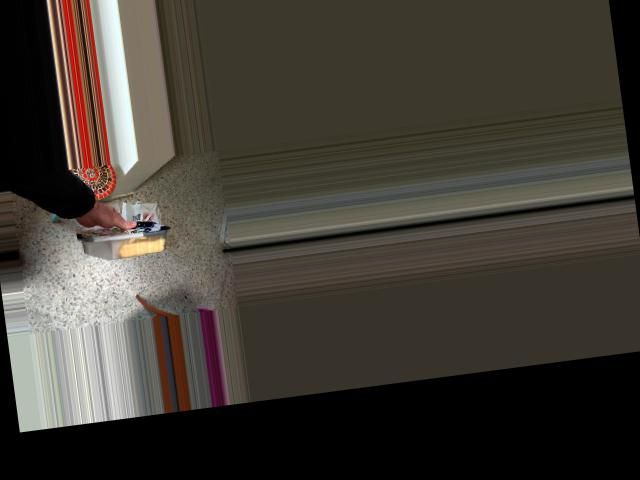cheese: (64, 166, 172, 271)
